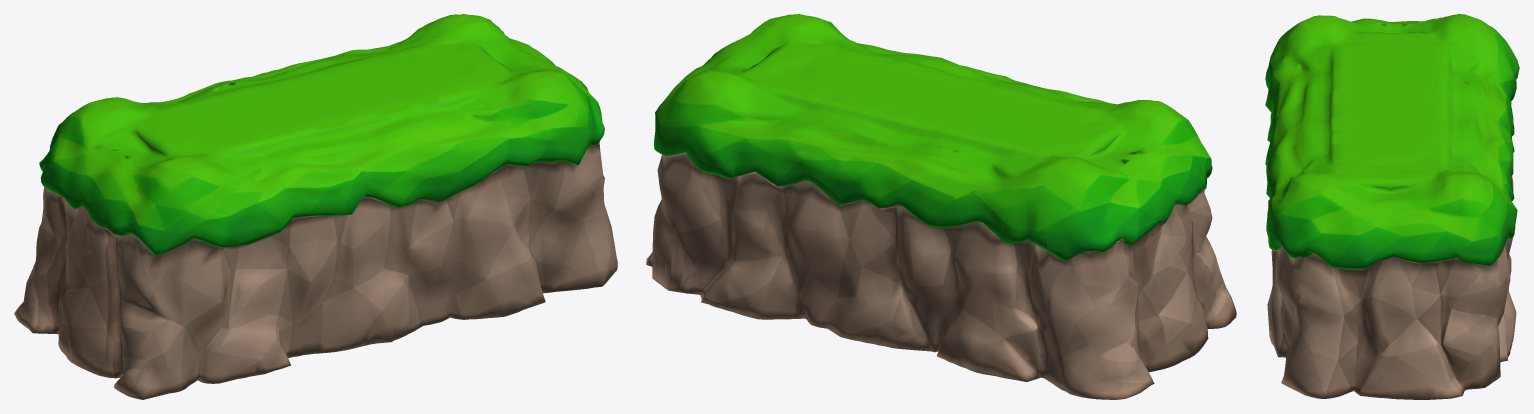
File: gake1.glb
3 renders of one model, left to right at view 1: azimuth 30°, elevation 25°; view 2: azimuth 150°, elevation 25°; view 3: azimuth 270°, elevation 25°, orthographic. The views are drawn at different scales.
Visible parts, largest first — view 1: tripo_node_55b9a360-43f0-4bd8-833c-6876ec66fd71; view 2: tripo_node_55b9a360-43f0-4bd8-833c-6876ec66fd71; view 3: tripo_node_55b9a360-43f0-4bd8-833c-6876ec66fd71.
Boxes of the visible parts, <box> form: tripo_node_55b9a360-43f0-4bd8-833c-6876ec66fd71: <box>14,14,617,399</box>; tripo_node_55b9a360-43f0-4bd8-833c-6876ec66fd71: <box>646,14,1236,399</box>; tripo_node_55b9a360-43f0-4bd8-833c-6876ec66fd71: <box>1265,14,1519,399</box>.
Size of the model in its own units: 0.9973 by 0.3786 by 0.4704.
1 material, 1 textured.
